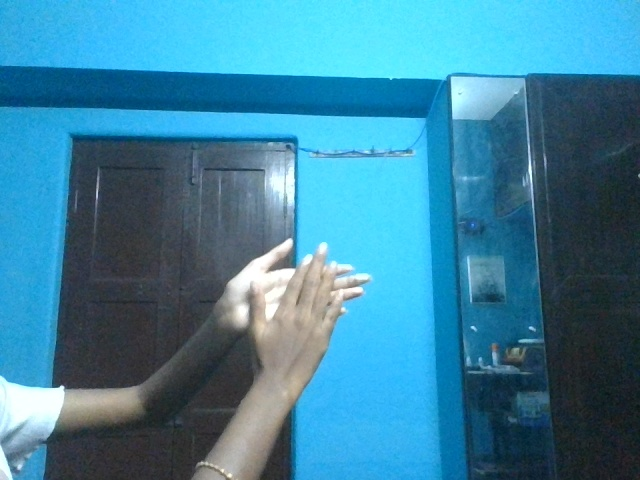H: (206, 229, 373, 396)
